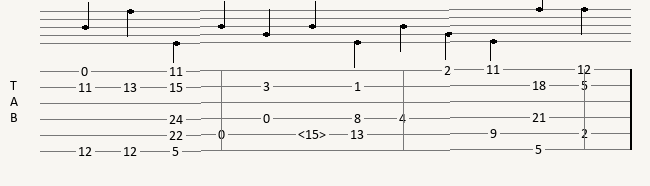0: (81, 64, 92, 77), (218, 128, 229, 141), (263, 112, 274, 125)
1: (354, 80, 365, 93)
11: (78, 80, 96, 93), (169, 64, 187, 77), (486, 64, 504, 77)
12: (78, 144, 96, 157), (123, 144, 141, 157), (577, 64, 595, 77)
13: (123, 80, 141, 93), (350, 128, 368, 141)
15: (169, 80, 187, 93)
18: (532, 80, 550, 93)
2: (444, 64, 455, 77), (581, 128, 592, 141)
21: (532, 112, 550, 125)
22: (169, 128, 187, 141)
24: (169, 112, 187, 125)
3: (263, 80, 274, 93)
4: (399, 112, 410, 125)
5: (172, 144, 183, 157), (535, 144, 546, 157), (581, 80, 592, 93)
8: (354, 112, 365, 125)
9: (490, 128, 501, 141)
harmonic: (298, 128, 330, 141)
